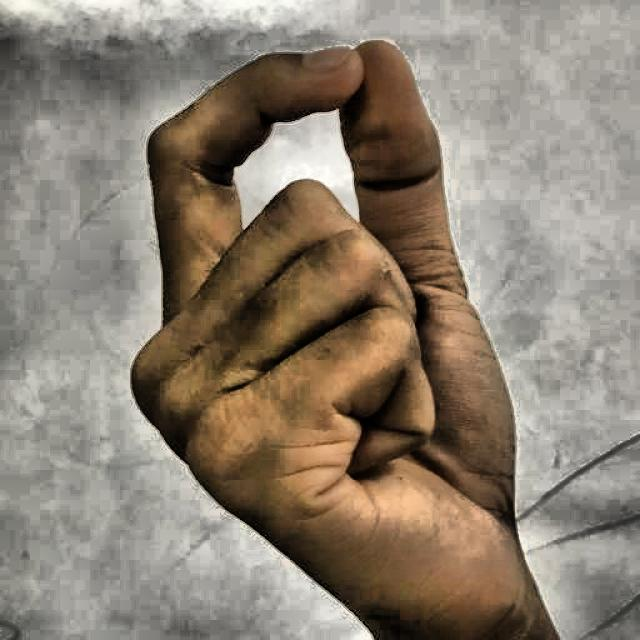Gha: (101, 22, 564, 639)
